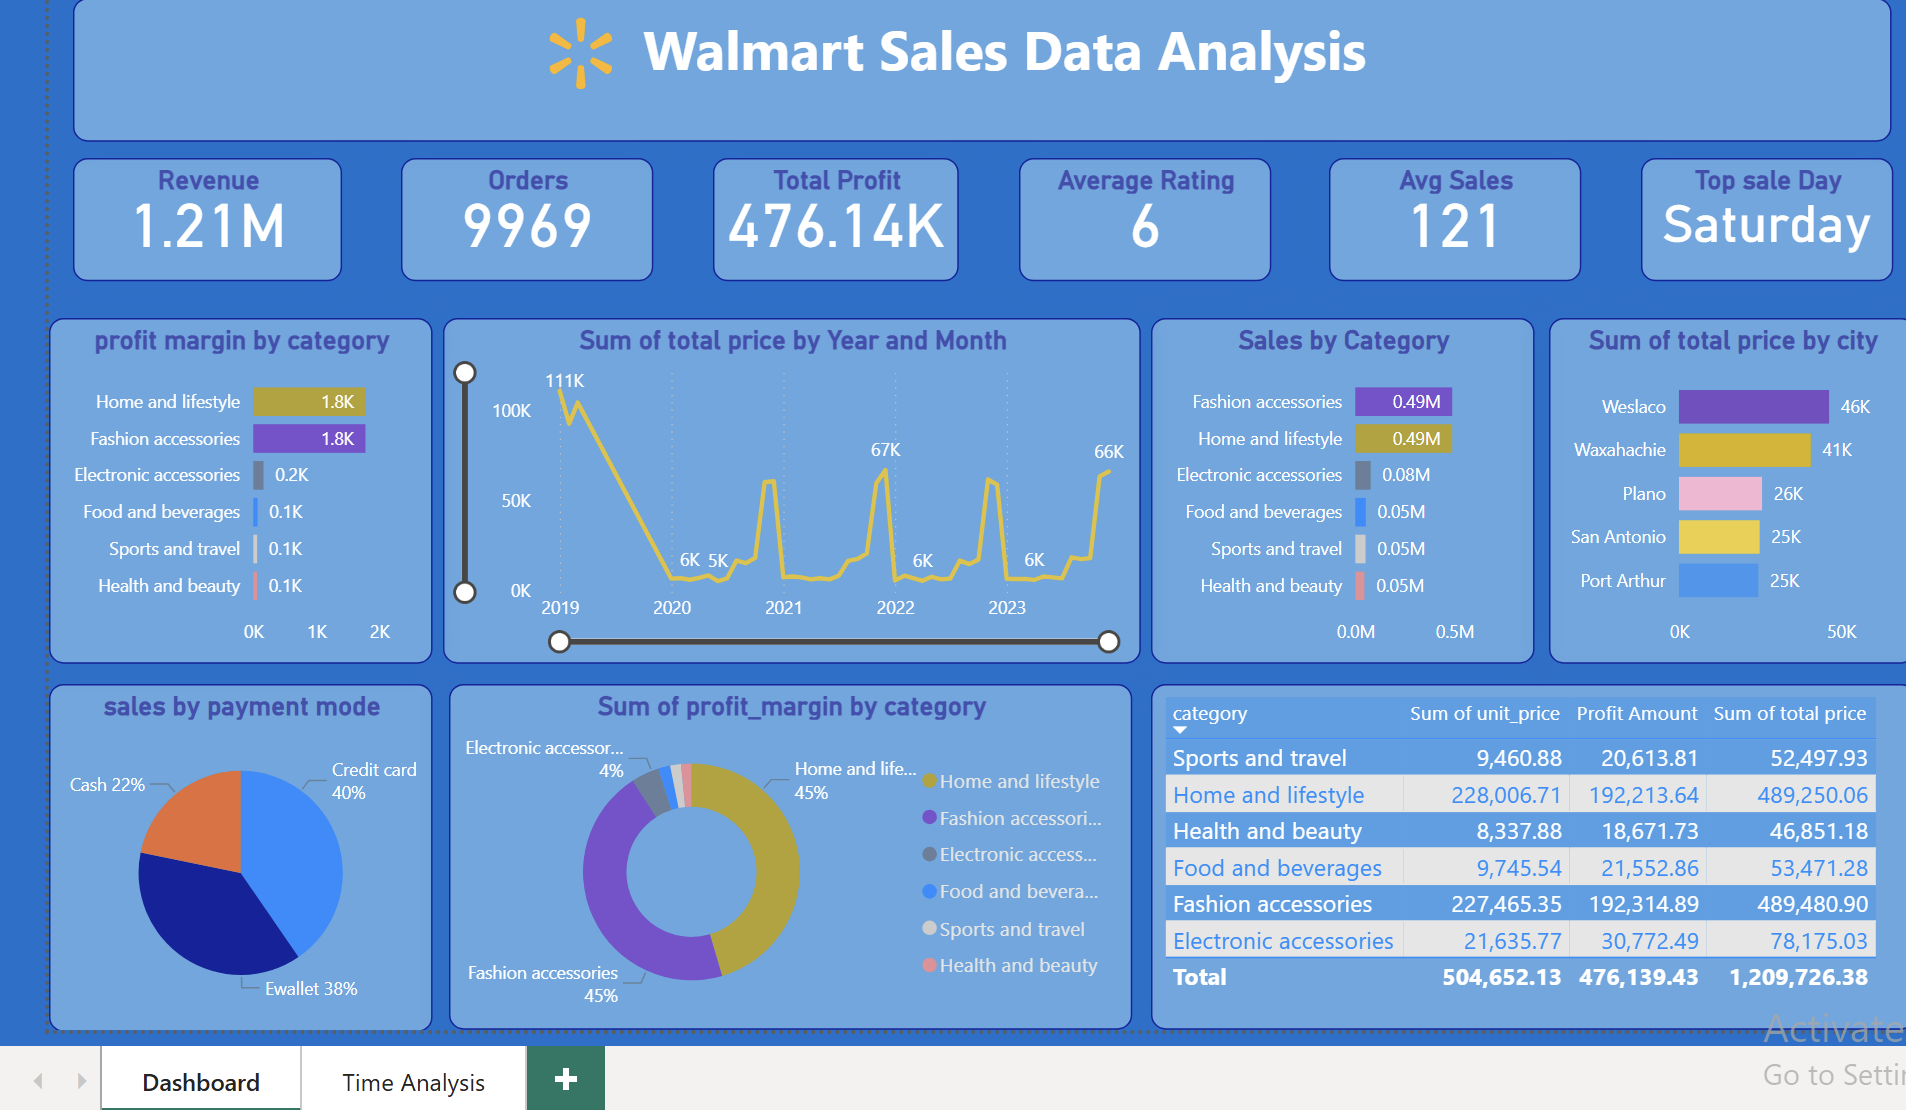

The dashboard page shown, as its layout file describes it:
{"tool":"powerbi","page":{"name":"Dashboard","canvas":[1280,720],"ordinal":0},"visuals":[{"type":"barChart","title":"Sales by Category ","fields":{"Category":["walmart_cleaned_data.category"],"Y":["Sum(walmart_cleaned_data.total price)"]},"box":[755.7,231.4,262.9,237.1],"z":0},{"type":"barChart","fields":{"Category":["walmart_cleaned_data.city"],"Y":["Sum(walmart_cleaned_data.total price)"]},"box":[1028.6,231.4,251.4,237.1],"z":1000},{"type":"pieChart","title":"sales by payment mode","fields":{"Category":["walmart_cleaned_data.payment_method"],"Y":["Sum(walmart_cleaned_data.total price)"]},"box":[0,482.9,262.9,238.6],"z":2000},{"type":"lineChart","fields":{"Y":["Sum(walmart_cleaned_data.total price)"],"Category":["walmart_cleaned_data.date.Variation.Date Hierarchy.Year","walmart_cleaned_data.date.Variation.Date Hierarchy.Month"]},"box":[270,231.4,478.6,237.1],"z":3000},{"type":"barChart","title":"profit margin by category","fields":{"Category":["walmart_cleaned_data.category"],"Y":["Sum(walmart_cleaned_data.profit_margin)"]},"box":[0,231.4,262.9,237.1],"z":4000},{"type":"tableEx","fields":{"Values":["walmart_cleaned_data.category","Sum(walmart_cleaned_data.unit_price)","walmart_cleaned_data.Profit Amount","Sum(walmart_cleaned_data.total price)"]},"box":[755.7,482.9,524.3,237.1],"z":5000},{"type":"donutChart","fields":{"Category":["walmart_cleaned_data.category"],"Y":["Sum(walmart_cleaned_data.profit_margin)"]},"box":[274.3,482.9,468.6,237.1],"z":6000},{"type":"card","title":"Revenue","fields":{"Values":["Sum(walmart_cleaned_data.total price)"]},"box":[17.1,122.4,184.3,84.3],"z":7000},{"type":"card","title":"Orders ","fields":{"Values":["CountNonNull(walmart_cleaned_data.invoice_id)"]},"box":[242,122.4,172.9,84.3],"z":8000},{"type":"card","title":"Total Profit","fields":{"Values":["walmart_cleaned_data.Profit Amount"]},"box":[455.4,122.4,168.6,84.3],"z":9000},{"type":"card","title":"Average Rating","fields":{"Values":["Avg(walmart_cleaned_data.rating)"]},"box":[664.6,122.4,172.9,84.3],"z":10000},{"type":"card","title":"Avg Sales ","fields":{"Values":["walmart_cleaned_data.Average_Sales_Per_Order"]},"box":[878,122.4,172.9,84.3],"z":11000},{"type":"card","title":"Top sale Day","fields":{"Values":["walmart_cleaned_data.Max_Sales_Day"]},"box":[1091.4,122.4,172.9,84.3],"z":12000},{"type":"textbox","box":[17.1,12.9,1247.1,98.6],"z":13000},{"type":"image","box":[315.7,12.9,98.6,75.7],"z":14000}]}

Visuals, with their boxes in screenshot pixels (x1, y1, x2, y2):
"Sales by Category " barChart: [1149, 315, 1536, 663]
barChart - walmart_cleaned_data.city x Sum(walmart_cleaned_data.total price): [1550, 315, 1905, 663]
"sales by payment mode" pieChart: [40, 684, 426, 1035]
lineChart - Sum(walmart_cleaned_data.total price) x walmart_cleaned_data.date.Variation.Date Hierarchy.Year: [436, 315, 1139, 663]
"profit margin by category" barChart: [40, 315, 426, 663]
tableEx - walmart_cleaned_data.category x Sum(walmart_cleaned_data.unit_price): [1149, 684, 1905, 1032]
donutChart - walmart_cleaned_data.category x Sum(walmart_cleaned_data.profit_margin): [443, 684, 1131, 1032]
"Revenue" card: [65, 155, 335, 279]
"Orders " card: [395, 155, 649, 279]
"Total Profit" card: [708, 155, 956, 279]
"Average Rating" card: [1016, 155, 1270, 279]
"Avg Sales " card: [1329, 155, 1583, 279]
"Top sale Day" card: [1642, 155, 1896, 279]
textbox: [65, 0, 1896, 139]
image: [503, 0, 648, 105]
